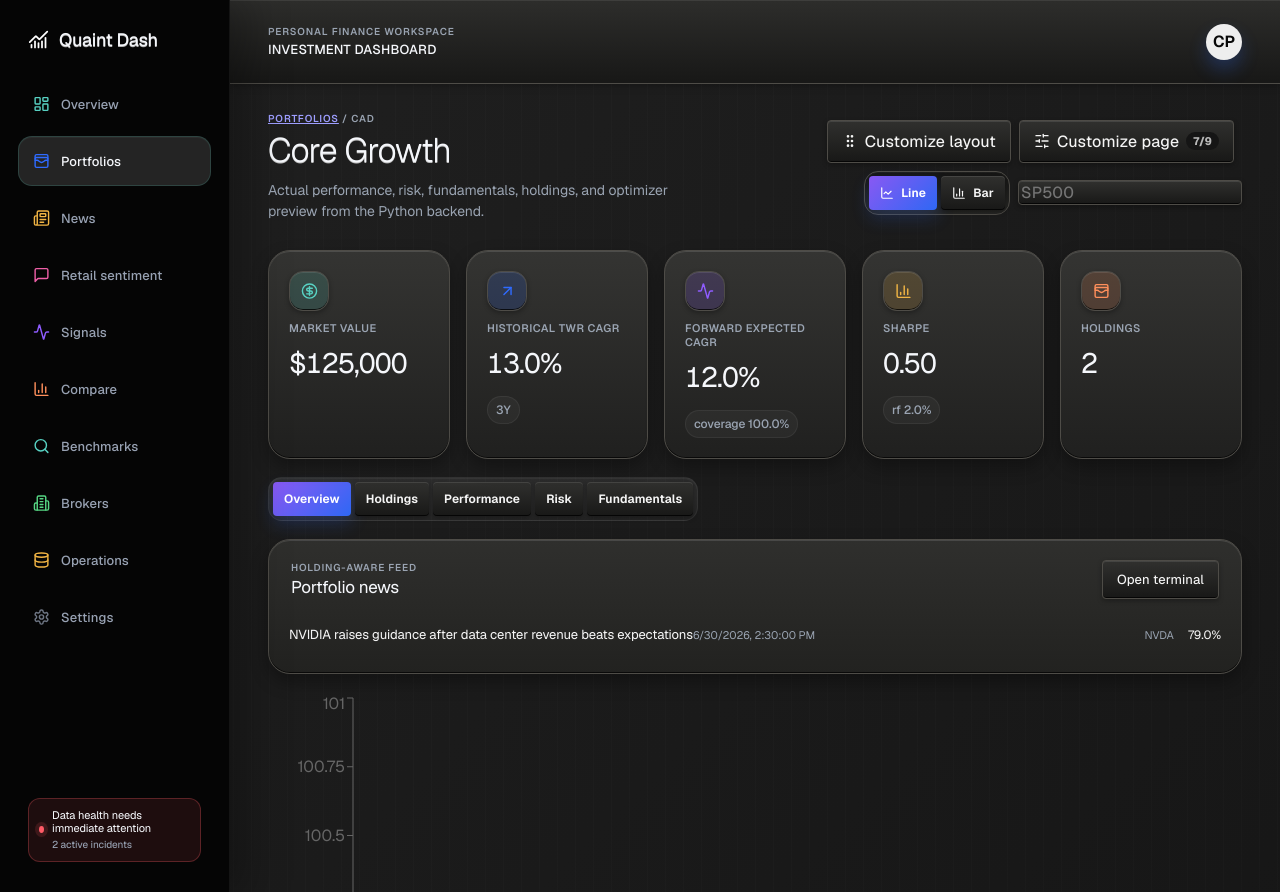
Test: App shell › renders portfolio detail analytics tabs
Check: the heading "Core Growth" is shown, box x1=268 y1=128 x2=451 y2=172
Check: the text "Historical TWR CAGR" is shown, box x1=487 y1=321 x2=627 y2=335
Click the tab "Holdings".
click(392, 499)  # box x1=355 y1=482 x2=429 y2=516
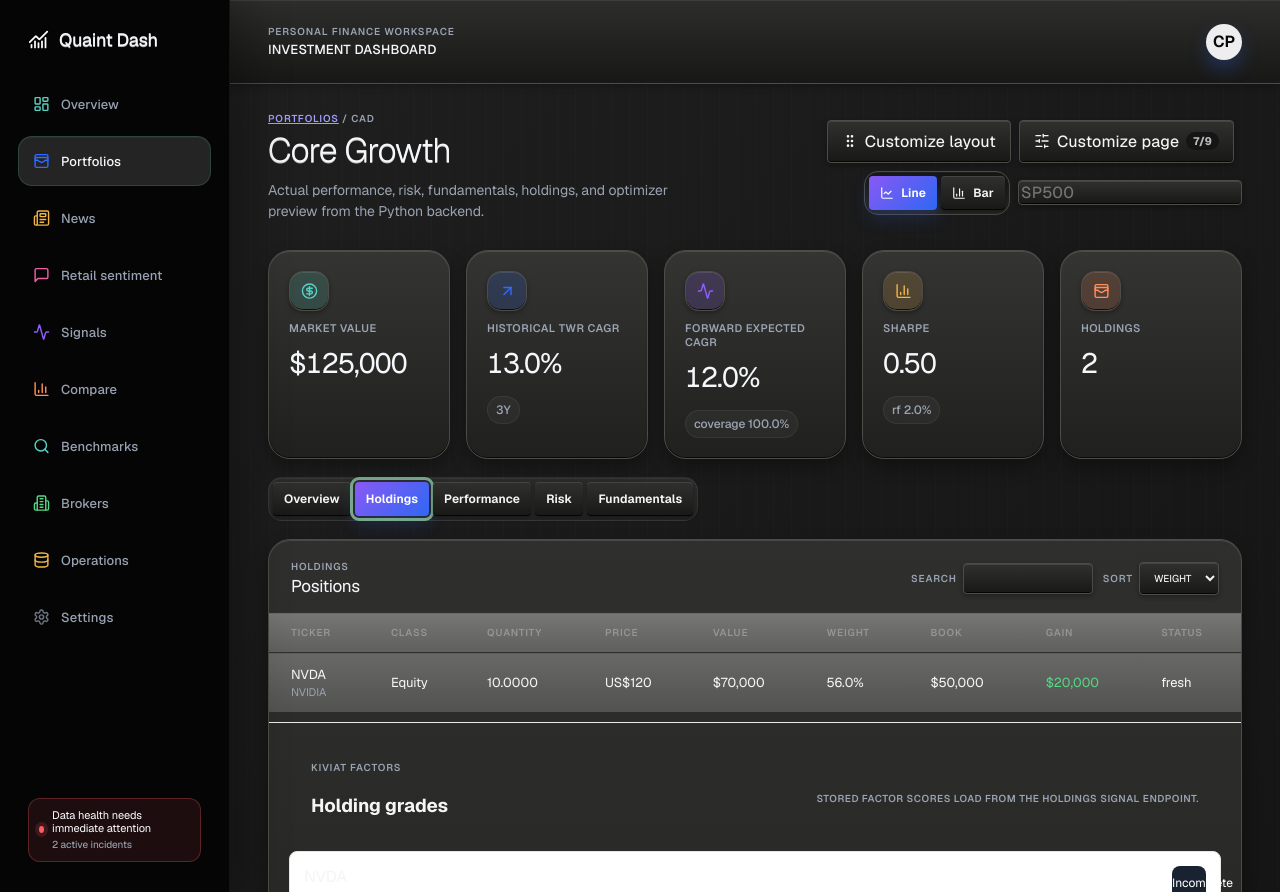
Check: the text "NVIDIA" is shown, box x1=291 y1=685 x2=326 y2=699
Check: the heading "Positions" is shown, box x1=291 y1=575 x2=360 y2=597
